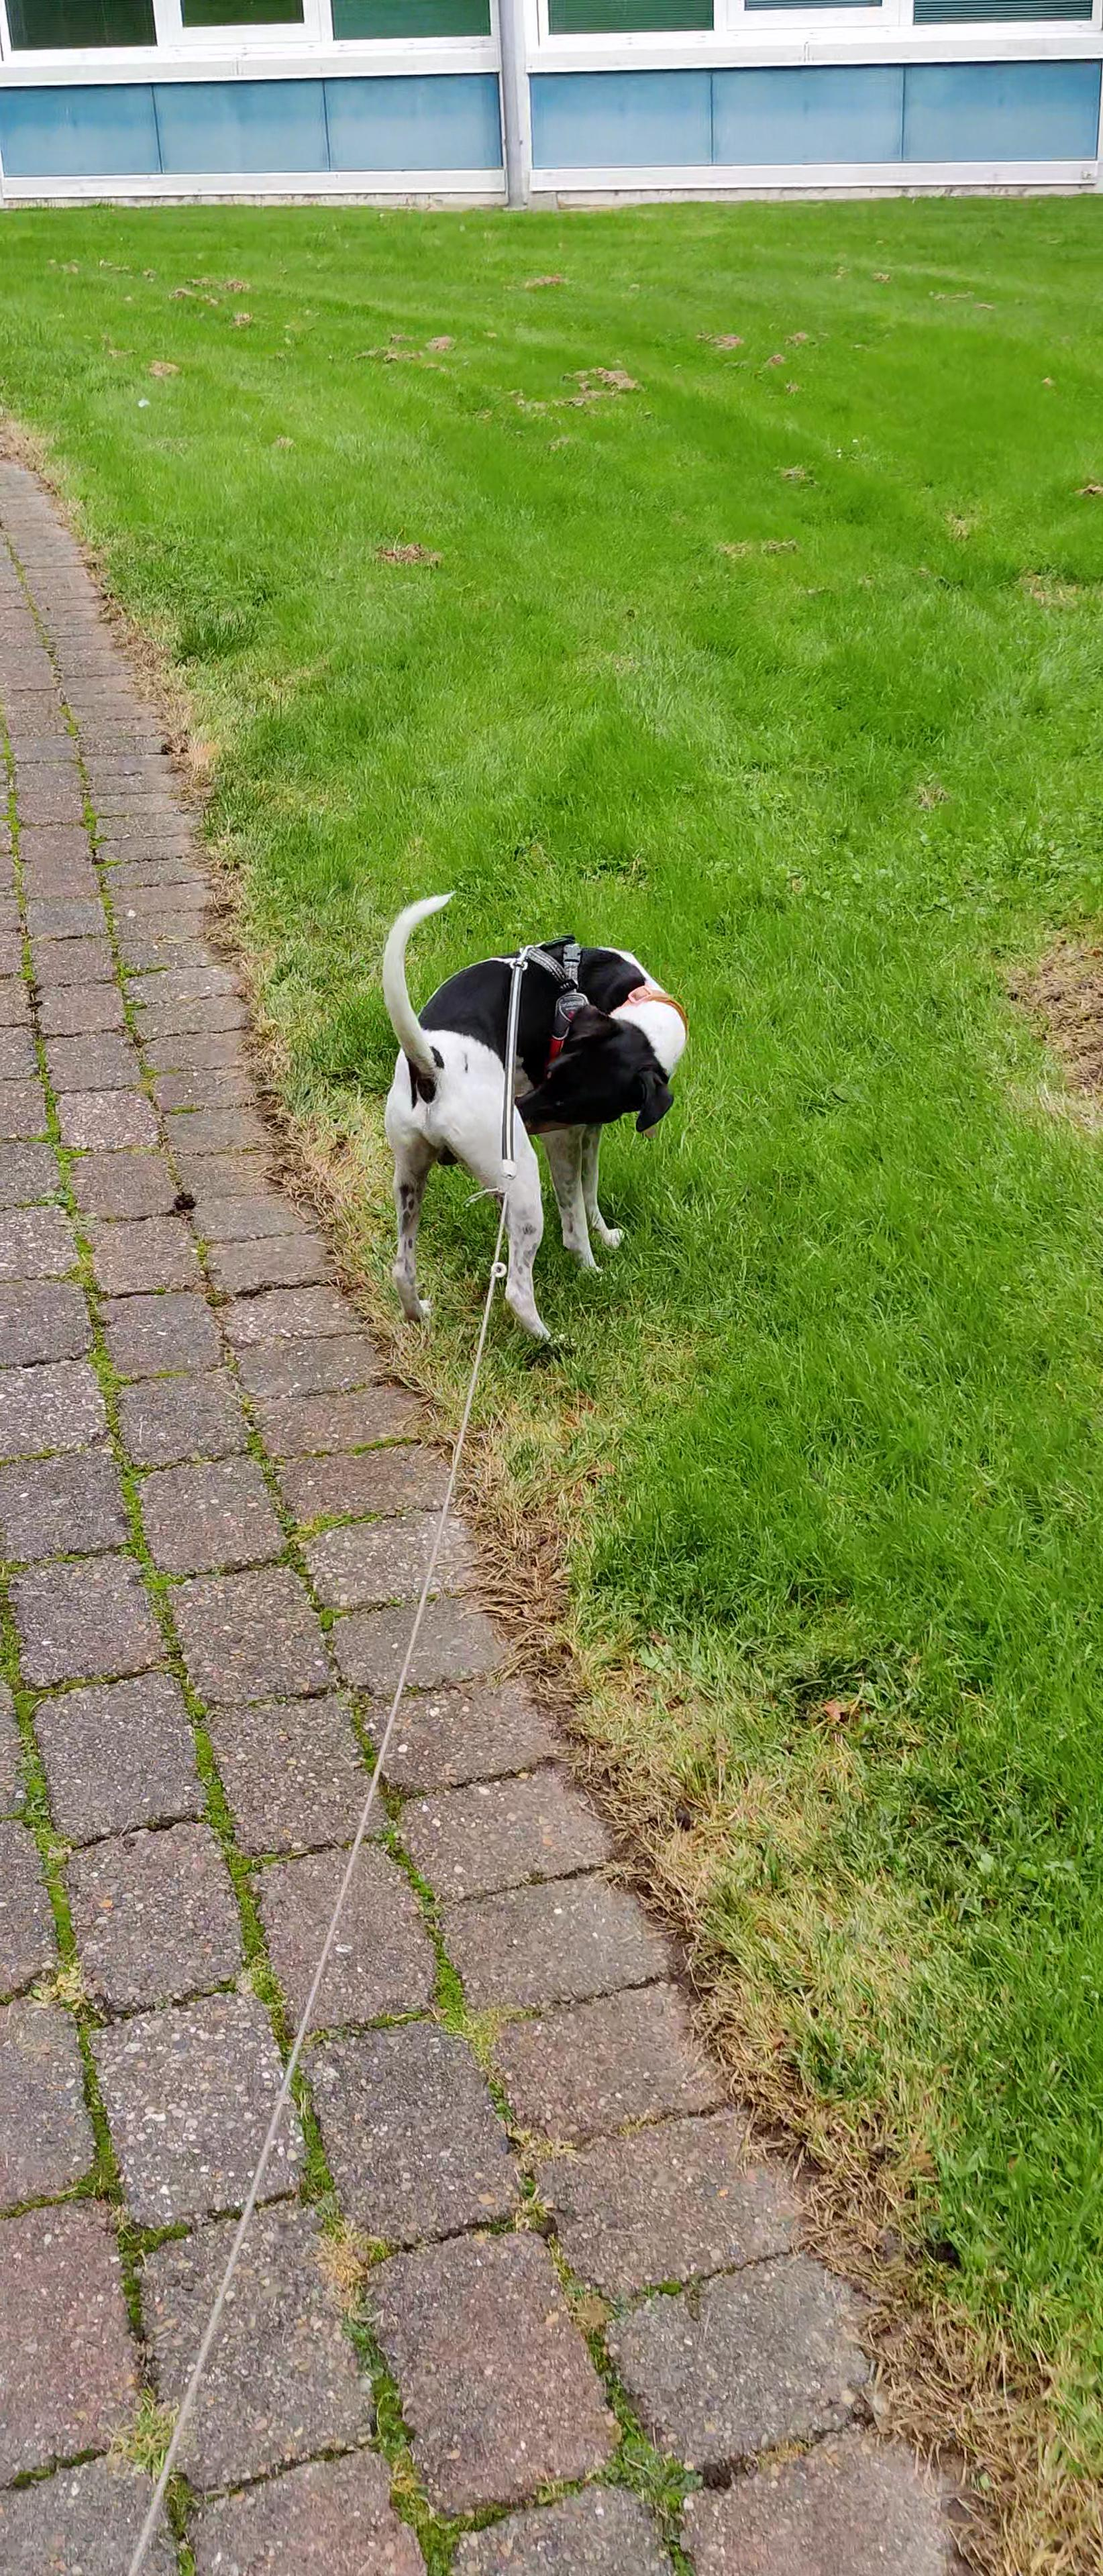Dog: (357, 881, 720, 1360)
